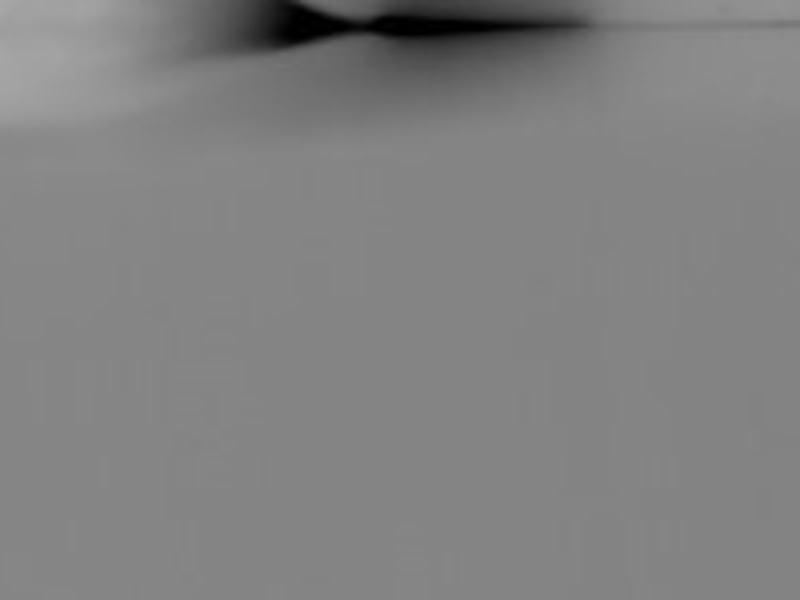defect: (263, 1, 345, 51), (359, 12, 505, 39)
